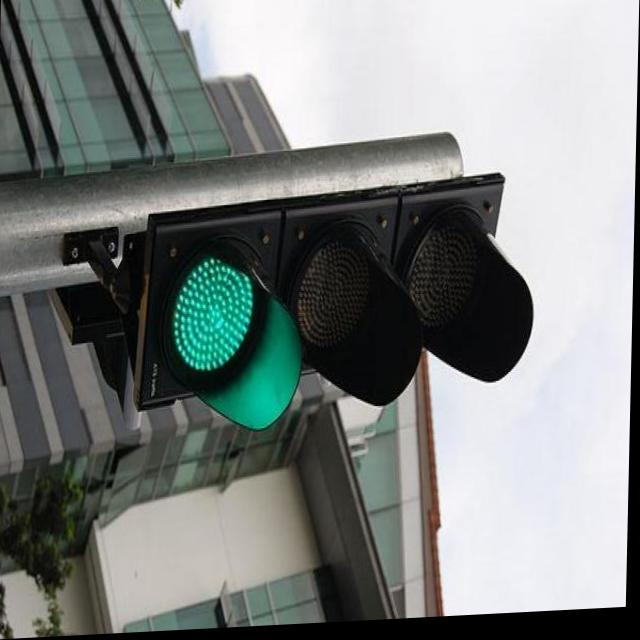green light: (134, 179, 541, 413)
